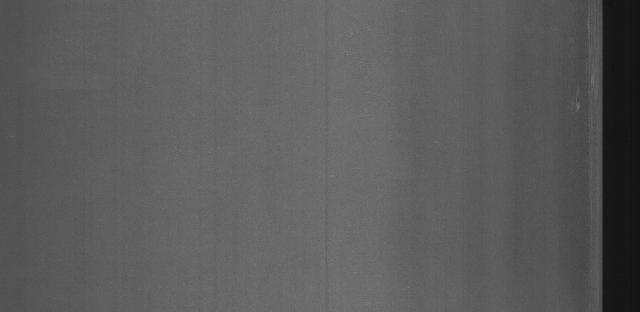silk_spot: (563, 22, 598, 138)
